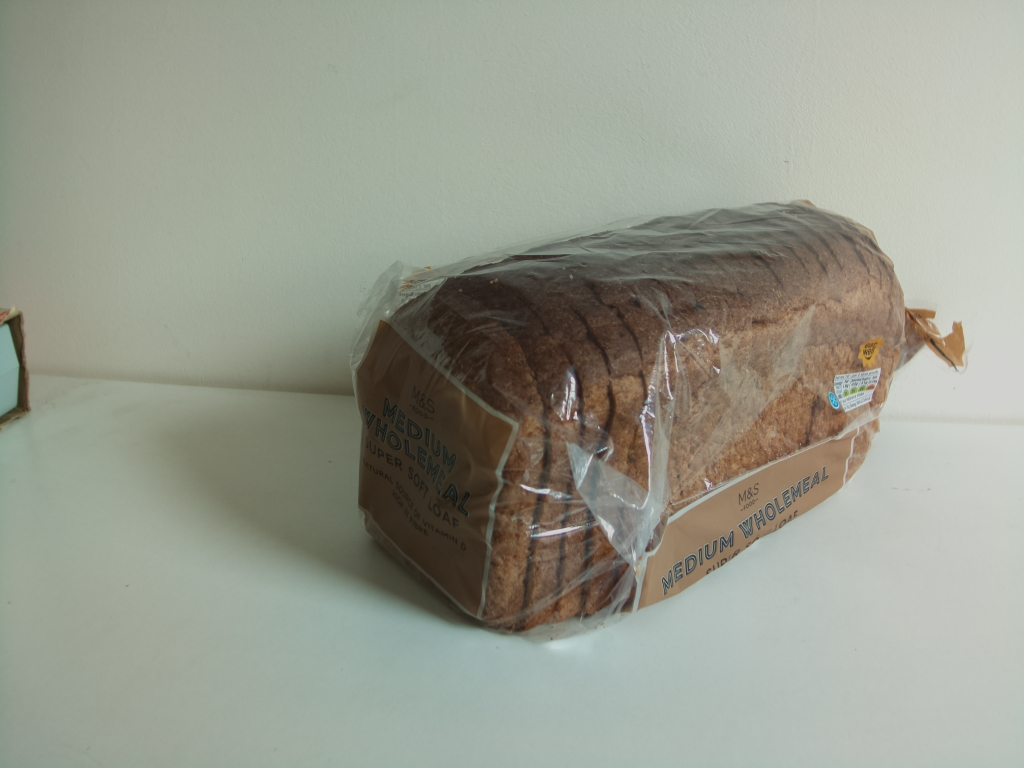bread: (347, 191, 973, 647)
